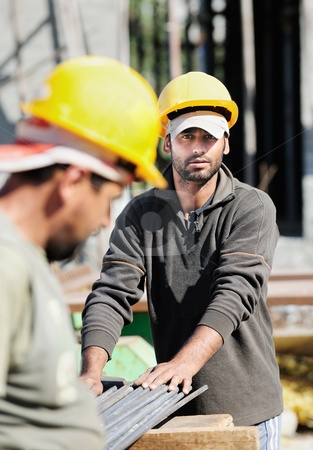yellow: (29, 63, 157, 254), (156, 71, 232, 183)
